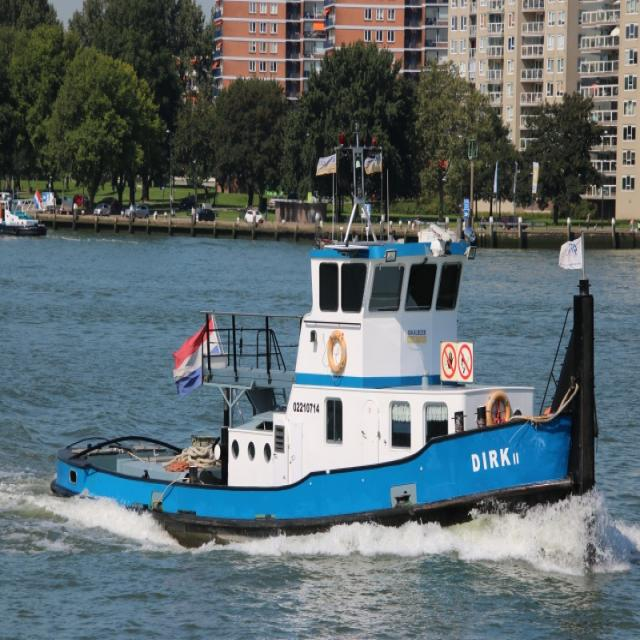tugboat: (51, 221, 604, 570)
